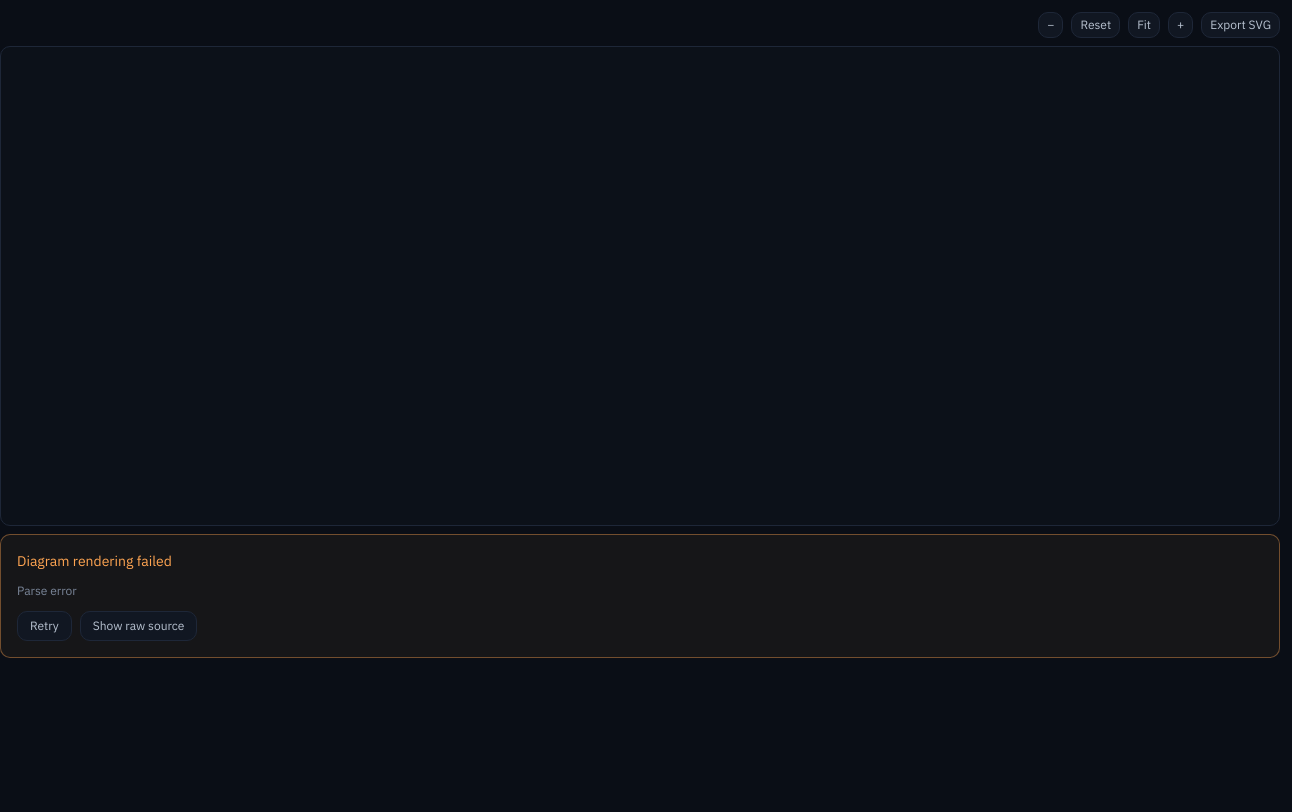
Test: DiagramView — mermaid › shows a render-failure panel with a raw-source toggle when rendering throws
Expected: the text "Diagram rendering failed" is shown, x1=17 y1=552 x2=172 y2=570
Expected: the text "graph TD; broken!!!" is not shown
What coordinates should you click on to do the following:
click the button "Show raw source"
I would click on:
 (139, 626)
Its box is x1=80 y1=611 x2=197 y2=641.
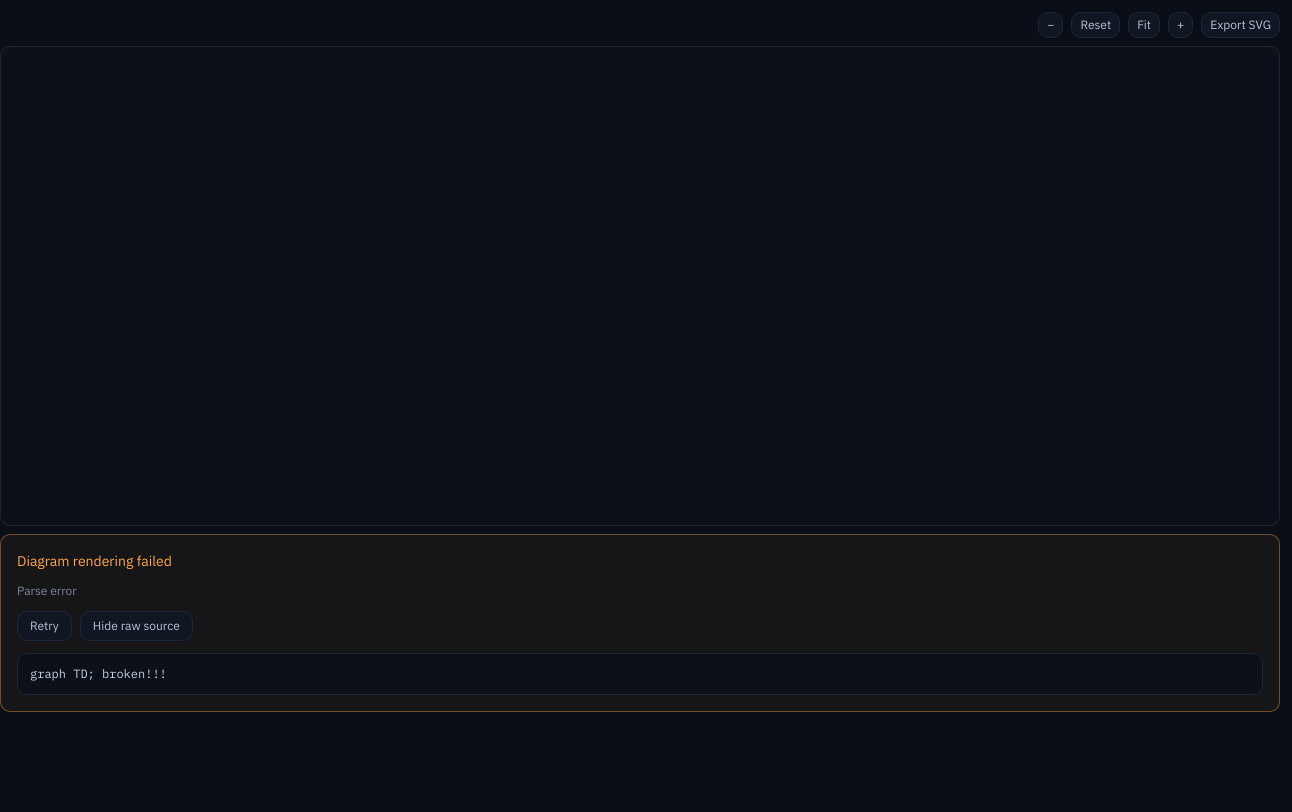
Expected: the text "graph TD; broken!!!" is shown, x1=17 y1=653 x2=1263 y2=695
